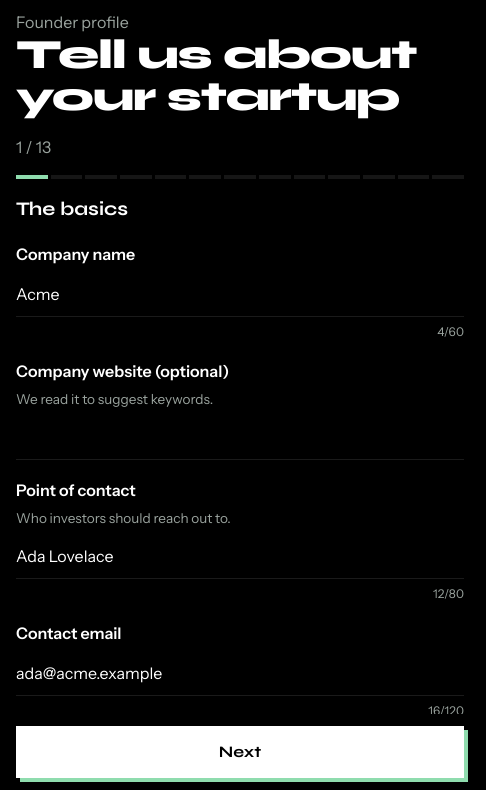
Test: Screening › goes back to the previous step and keeps its values, clearing the error
Click the button "Next".
click(240, 752)  # box [16,726,464,778]
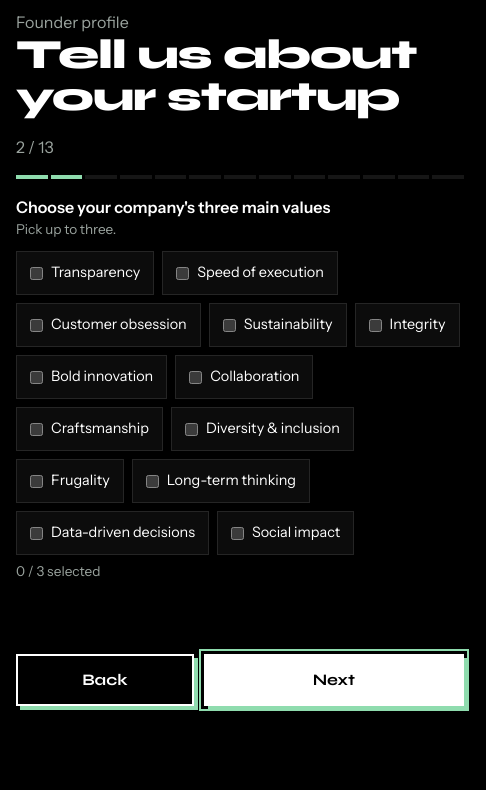
Check: the text "2 / 13" is shown, box [16,137,54,157]
Click the button "Back".
click(105, 680)  # box [16,654,194,706]
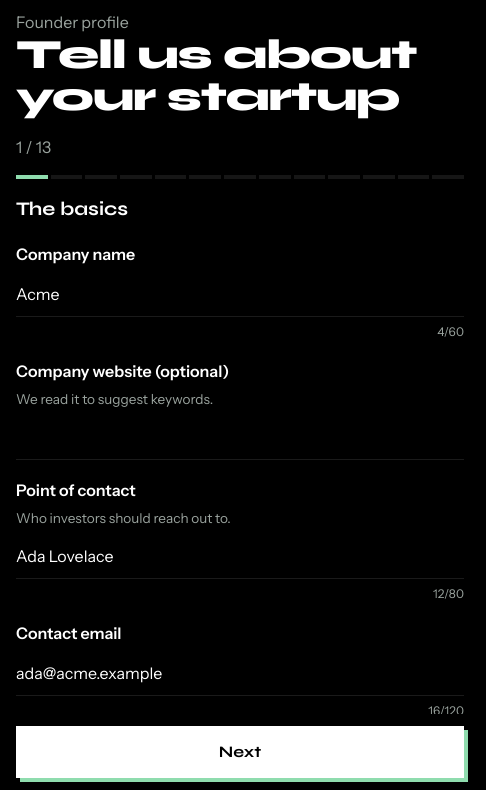
Check: the text "1 / 13" is shown, box [16,137,51,157]
Check: the field labelled "Company name" holds "Acme", box [16,272,464,317]
Check: the field labelled "Contact email" holds "ada@acme.example", box [16,651,464,696]
